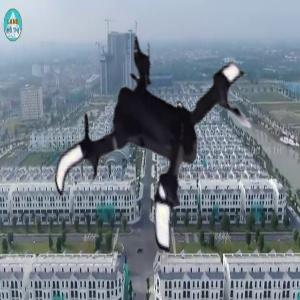drone: (39, 10, 284, 255)
